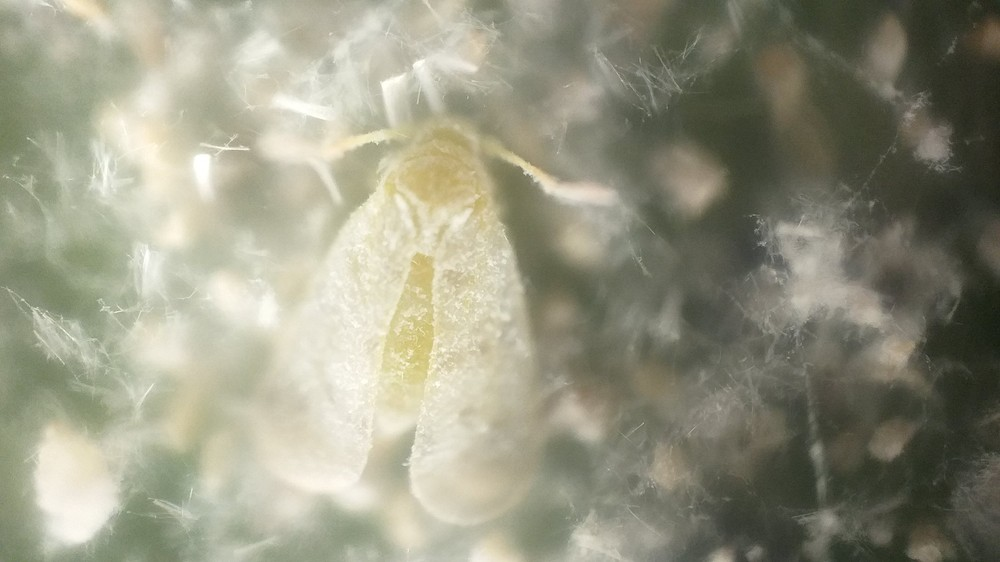Mosca Blanca: (223, 93, 630, 537)
